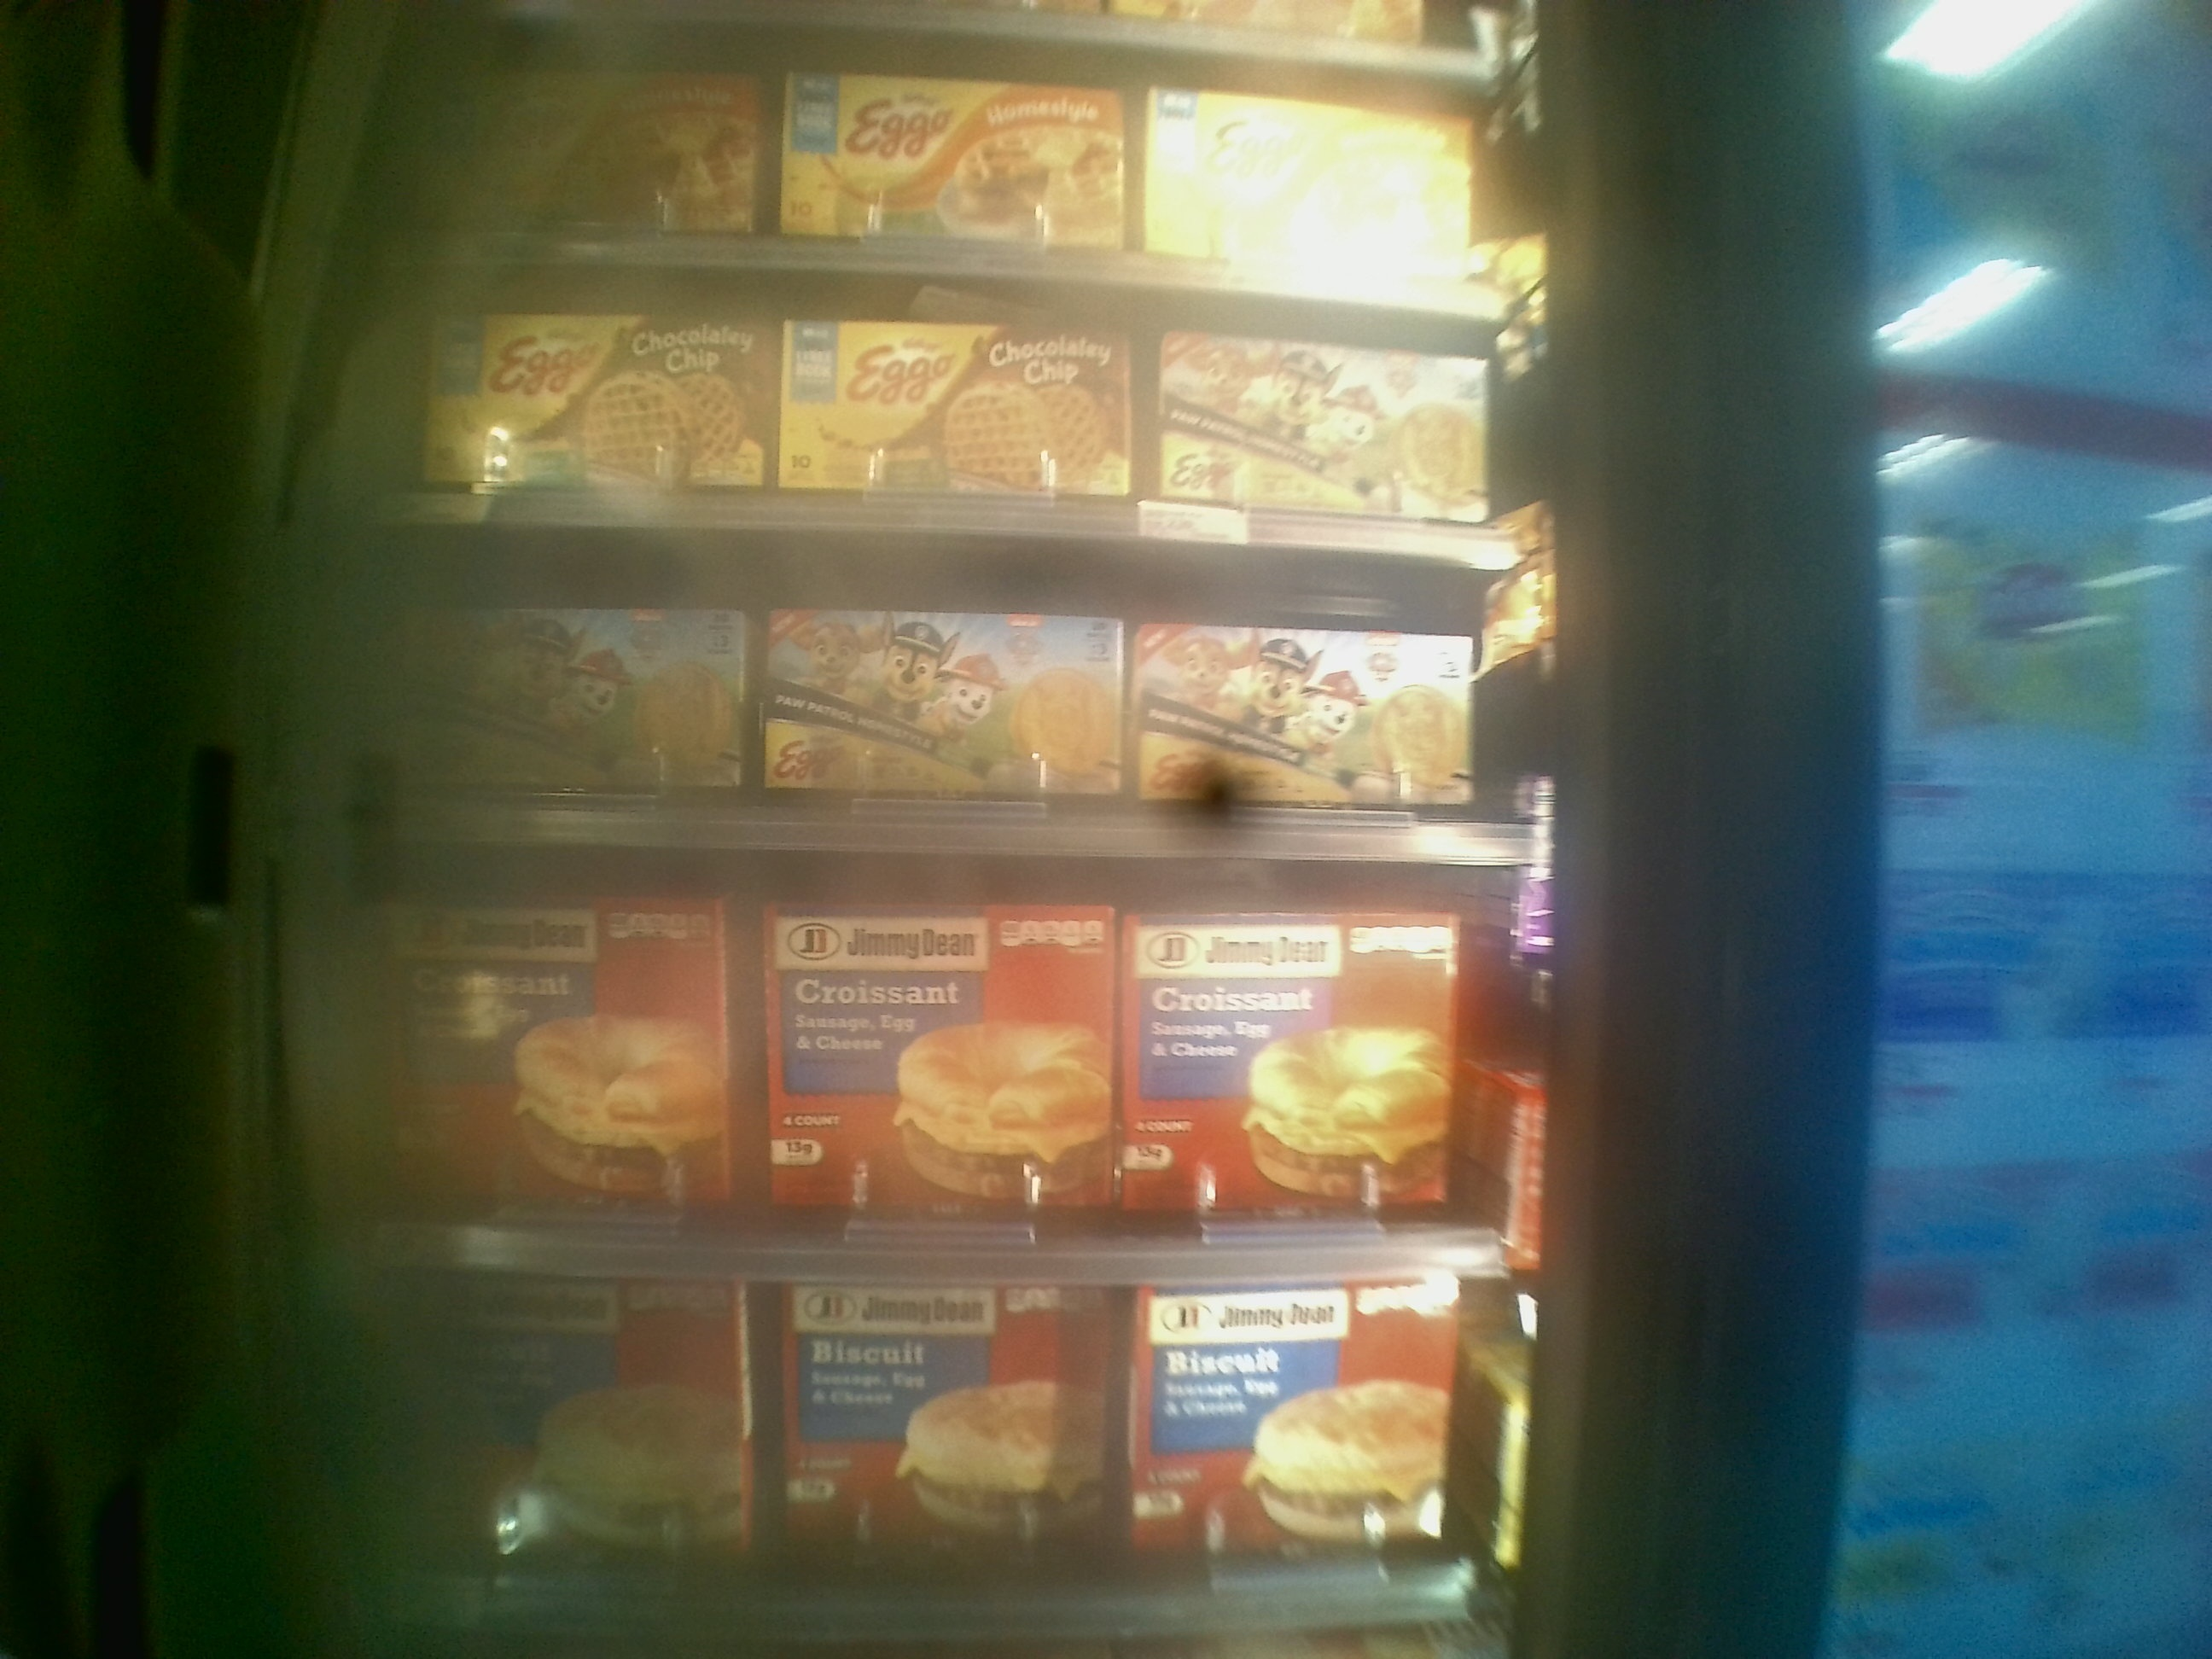frozen-food-shelf: (350, 824, 1508, 1269)
